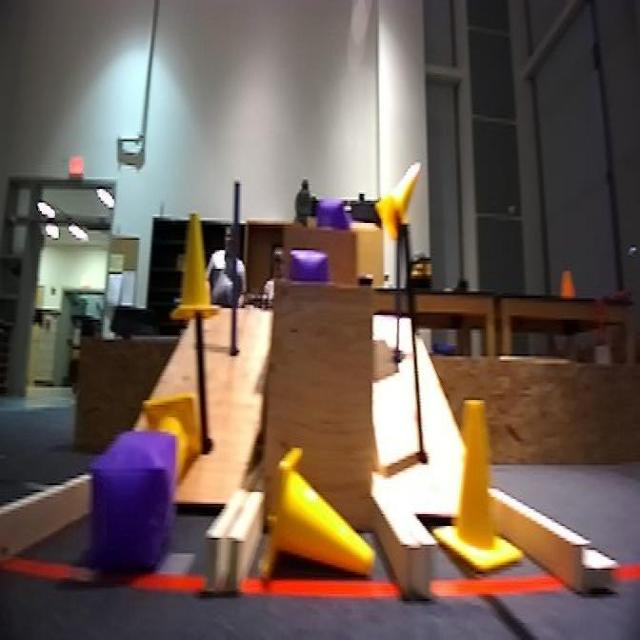frc_cone: (447, 383, 528, 587), (270, 448, 386, 575), (181, 221, 231, 330), (140, 392, 198, 484), (378, 154, 424, 244)
frc_cube: (83, 434, 169, 577), (310, 194, 346, 247), (288, 243, 326, 291)
